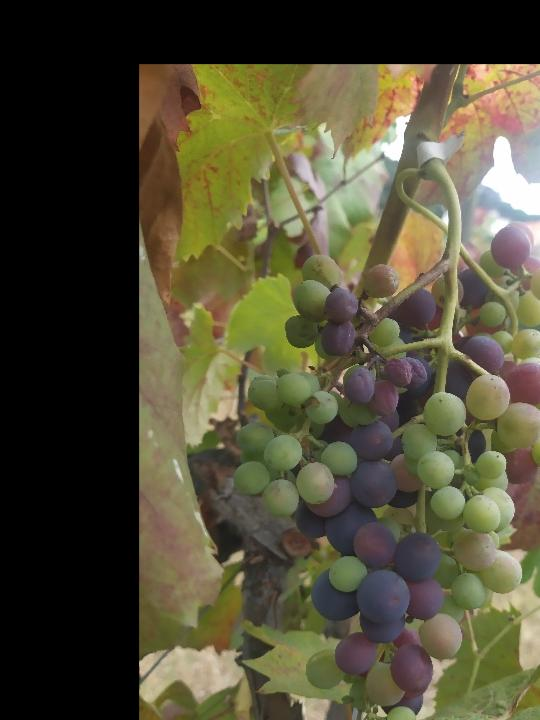grape: (227, 217, 540, 720)
